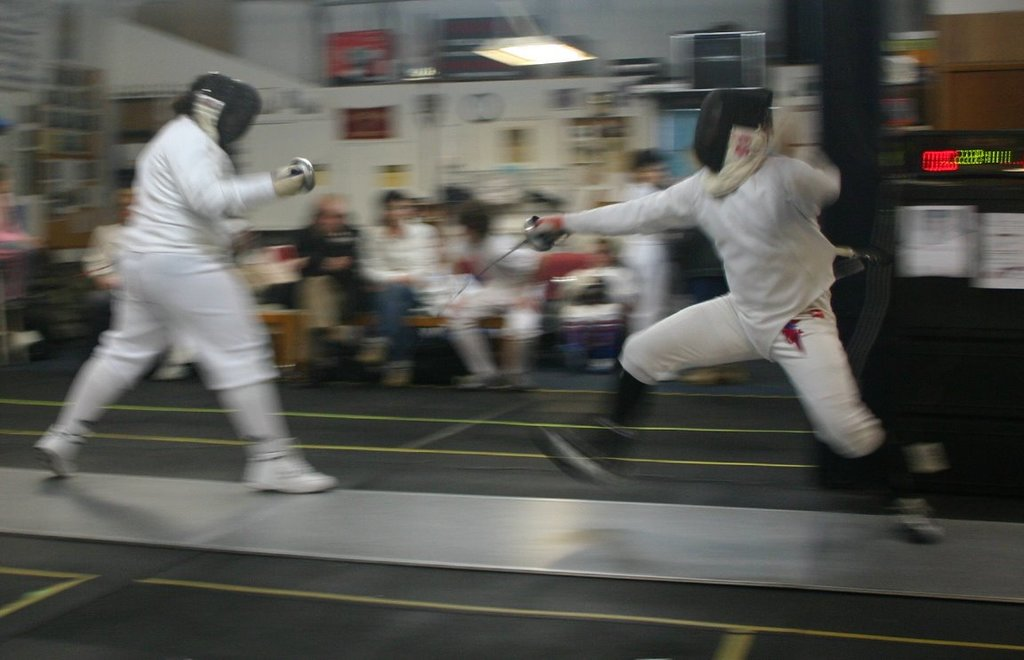Person: (515, 85, 939, 550), (32, 65, 343, 494)
